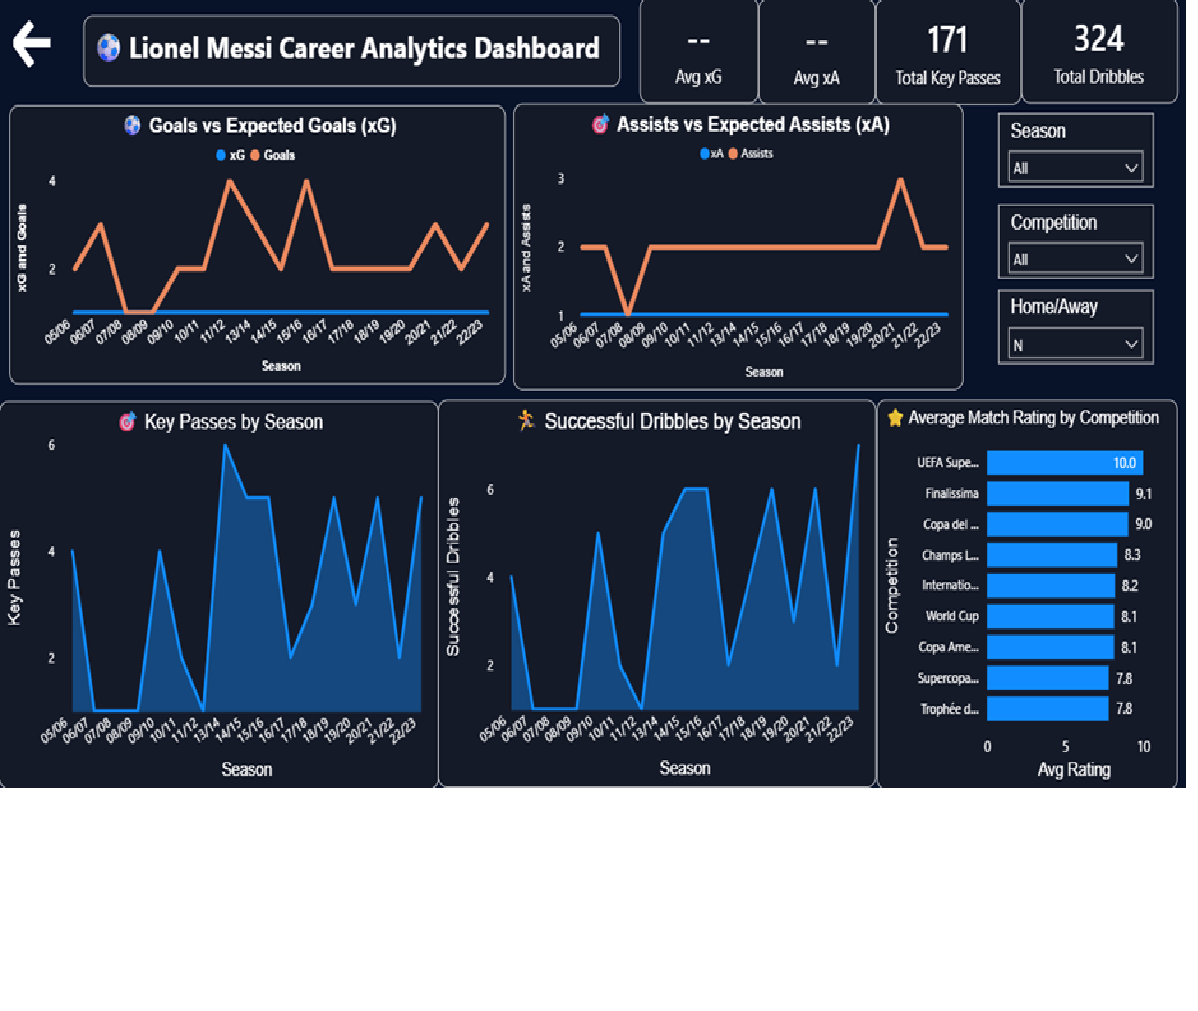

This screenshot's page, from the dashboard's own definition file:
{"tool":"powerbi","page":{"name":"Page 2","canvas":[1280,720],"ordinal":1},"visuals":[{"type":"cardVisual","fields":{"Data":["leomessi_matches.Avg xG"]},"box":[690.2,2.7,127.6,94.7],"z":0},{"type":"cardVisual","fields":{"Data":["leomessi_matches.Avg xA"]},"box":[817.8,4.1,126.2,94.7],"z":1000},{"type":"cardVisual","fields":{"Data":["leomessi_matches.Total Key Passes"]},"box":[944.1,4.1,156.4,94.7],"z":2000},{"type":"cardVisual","fields":{"Data":["leomessi_matches.Total Dribbles"]},"box":[1100.5,2.7,168.8,94.7],"z":3000},{"type":"lineChart","title":"⚽ Goals vs Expected Goals (xG)","fields":{"Category":["leomessi_matches.Season"],"Y":["Count(leomessi_matches.xG)","Count(leomessi_matches.Goals)"]},"box":[12.3,98.8,533.8,247],"z":4000},{"type":"lineChart","title":"🎯 Assists vs Expected Assists (xA)","fields":{"Category":["leomessi_matches.Season"],"Y":["Count(leomessi_matches.xA)","Count(leomessi_matches.Assists)"]},"box":[554.5,96.9,484.4,253.4],"z":5000},{"type":"areaChart","title":"🎯 Key Passes by Season","fields":{"Category":["leomessi_matches.Season"],"Y":["Count(leomessi_matches.Key Passes)"]},"box":[1.5,360.7,472.5,344.3],"z":6000},{"type":"areaChart","title":"🏃 Successful Dribbles by Season","fields":{"Category":["leomessi_matches.Season"],"Y":["Count(leomessi_matches.Successful Dribbles)"]},"box":[474,359.2,471,344.3],"z":7000},{"type":"clusteredBarChart","title":"⭐ Average Match Rating by Competition","fields":{"Category":["leomessi_matches.Competition"],"Y":["leomessi_matches.Avg Rating"]},"box":[944.9,359.2,323.4,345.8],"z":8000},{"type":"slicer","fields":{"Values":["leomessi_matches.Season"]},"box":[1076.1,105.8,166.9,65.6],"z":9000},{"type":"slicer","fields":{"Values":["leomessi_matches.Competition"]},"box":[1076.1,186.3,166.9,65.6],"z":10000},{"type":"slicer","fields":{"Values":["leomessi_matches.Home/Away"]},"box":[1076.1,262.3,166.9,65.6],"z":11000},{"type":"textbox","box":[91.9,19.2,577.7,63.1],"z":12000},{"type":"actionButton","box":[12.3,19.2,52.1,50.8],"z":13000}]}

Visuals, with their boxes on the page's 1280x720 design canvas (x1, y1, x2, y2). These are canvas units, not pixel positions in the 1198x1011 screenshot, which may show the page scaled, cropped or inside an application window:
cardVisual - leomessi_matches.Avg xG: BBox(690, 3, 818, 97)
cardVisual - leomessi_matches.Avg xA: BBox(818, 4, 944, 99)
cardVisual - leomessi_matches.Total Key Passes: BBox(944, 4, 1100, 99)
cardVisual - leomessi_matches.Total Dribbles: BBox(1100, 3, 1269, 97)
"⚽ Goals vs Expected Goals (xG)" lineChart: BBox(12, 99, 546, 346)
"🎯 Assists vs Expected Assists (xA)" lineChart: BBox(554, 97, 1039, 350)
"🎯 Key Passes by Season" areaChart: BBox(2, 361, 474, 705)
"🏃 Successful Dribbles by Season" areaChart: BBox(474, 359, 945, 704)
"⭐ Average Match Rating by Competition" clusteredBarChart: BBox(945, 359, 1268, 705)
slicer - leomessi_matches.Season: BBox(1076, 106, 1243, 171)
slicer - leomessi_matches.Competition: BBox(1076, 186, 1243, 252)
slicer - leomessi_matches.Home/Away: BBox(1076, 262, 1243, 328)
textbox: BBox(92, 19, 670, 82)
actionButton: BBox(12, 19, 64, 70)
